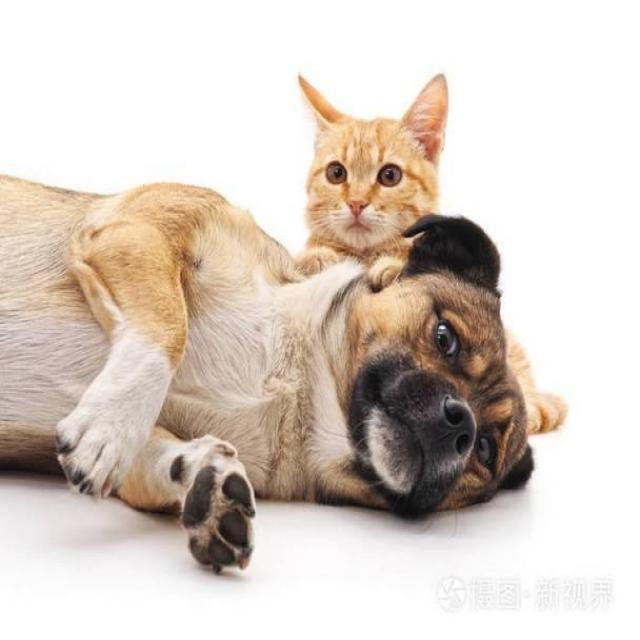cat: (268, 43, 462, 253)
dog: (321, 235, 567, 539)
